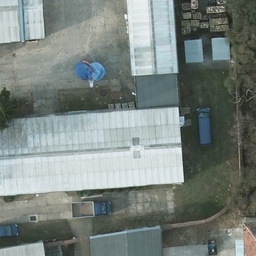car: (0, 223, 16, 239)
pickup: (69, 199, 112, 217)
van: (195, 104, 213, 151)
